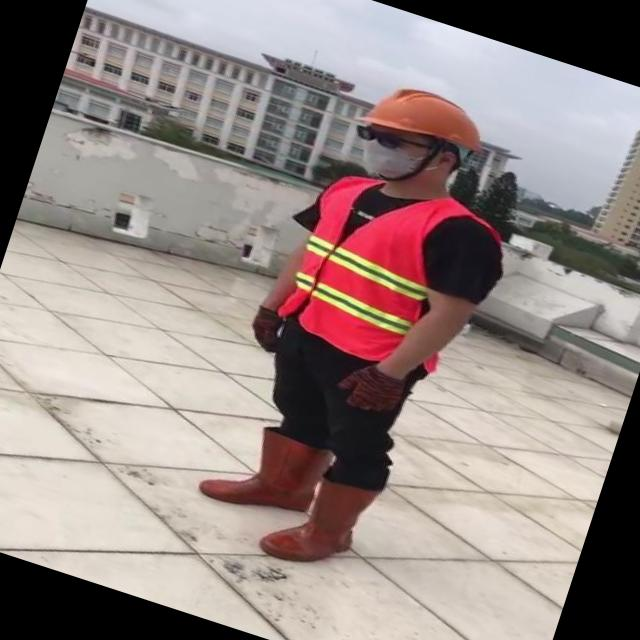hard_hat: (359, 72, 496, 160)
safety_vest: (272, 160, 491, 382)
vehicle: (157, 51, 558, 612)
work_boots: (196, 416, 332, 529), (258, 462, 374, 580)
